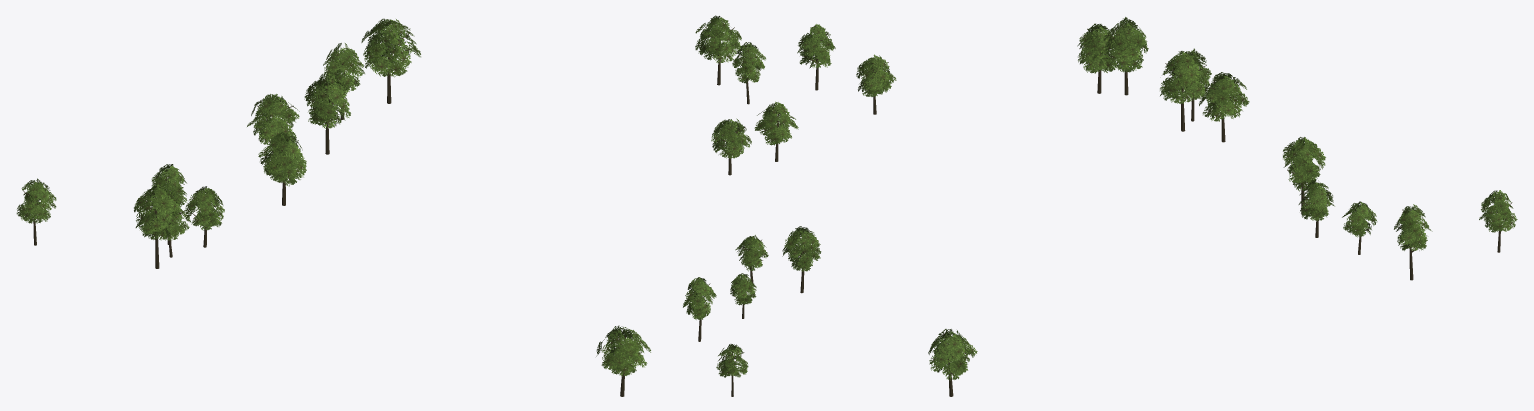
The model's file is TRB8-FOREST-CHUNK-7-2.glb.
The picture shows the model from 3 angles, left to right: view 1: azimuth 30°, elevation 25°; view 2: azimuth 150°, elevation 25°; view 3: azimuth 270°, elevation 25°; orthographic projection. The views are drawn at different scales.
Parts seen in each view (by area): view 1: TRB8-FOREST-CHUNK-7-2; view 2: TRB8-FOREST-CHUNK-7-2; view 3: TRB8-FOREST-CHUNK-7-2.
Boxes of the visible parts, x1,y1,x2,y2 form: TRB8-FOREST-CHUNK-7-2: (16, 18, 650, 396); TRB8-FOREST-CHUNK-7-2: (683, 15, 896, 396); TRB8-FOREST-CHUNK-7-2: (928, 17, 1517, 396).
Size of the model in its own units: 23.64 by 20.84 by 38.06.
Materials: 2 (1 with a texture image).
